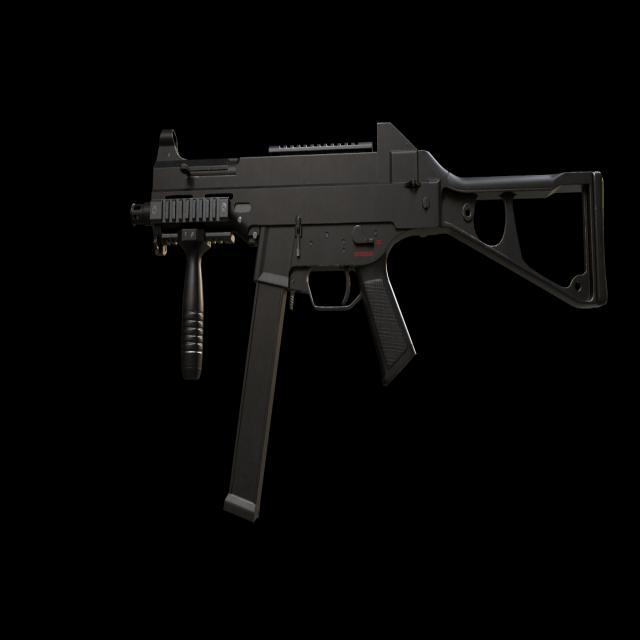Gun: (131, 72, 619, 538)
